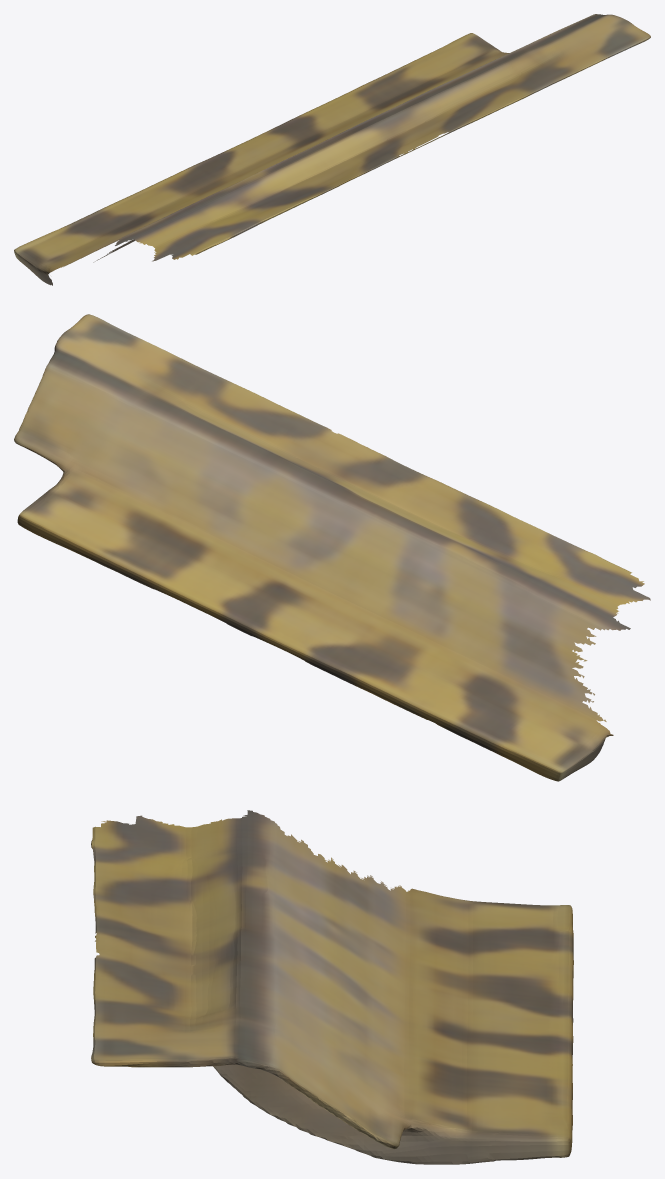
File: entity-v-guard-right.glb
3 views of the same model, one above another, from view 1: azimuth 30°, elevation 25°; view 2: azimuth 150°, elevation 25°; view 3: azimuth 270°, elevation 25° (orthographic). The views are drawn at different scales.
Visible parts, largest first — view 1: geometry_0; view 2: geometry_0; view 3: geometry_0.
Boxes of the visible parts, x1,y1,x2,y2 form: geometry_0: (14, 14, 650, 285); geometry_0: (14, 314, 650, 781); geometry_0: (91, 810, 573, 1164).
Size of the model in its own units: 2.6 by 0.8817 by 1.03.
